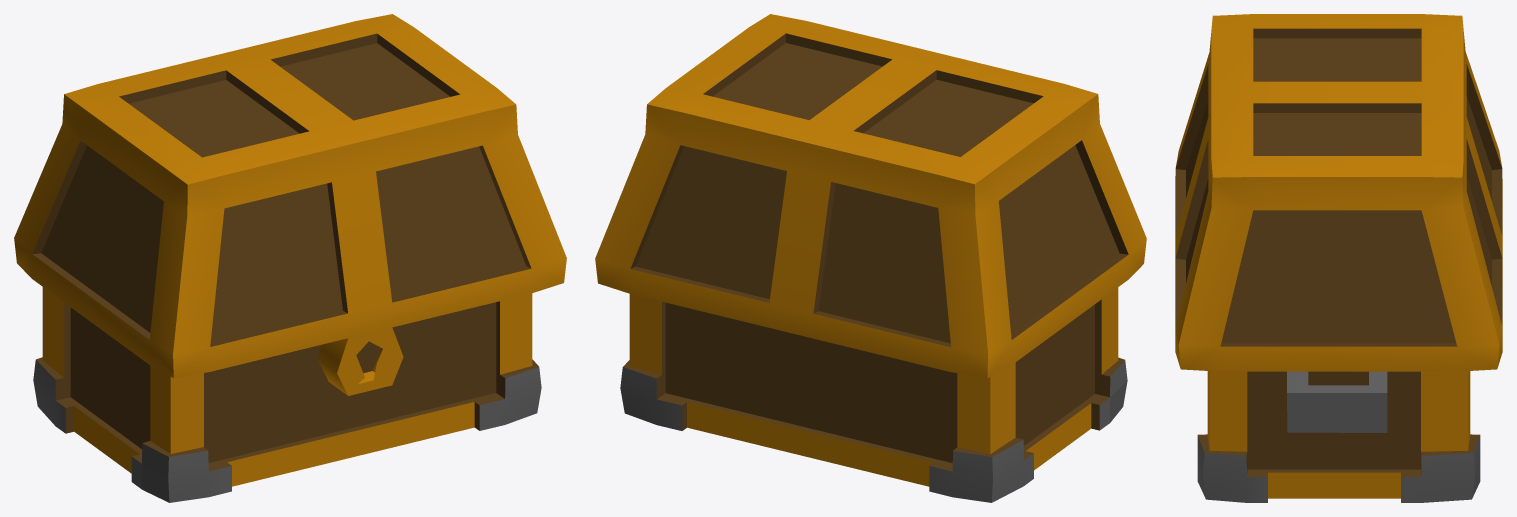
The model's file is Treasure_chest.dae.
3 views of the same model, side by side, from view 1: azimuth 30°, elevation 25°; view 2: azimuth 150°, elevation 25°; view 3: azimuth 270°, elevation 25° (orthographic).
Visible parts, largest first — view 1: polySurface1_ncl1_1; view 2: polySurface1_ncl1_1; view 3: polySurface1_ncl1_1.
Boxes of the visible parts, box(x1,y1,x2,y2) form: polySurface1_ncl1_1: box(14, 14, 566, 502); polySurface1_ncl1_1: box(595, 14, 1146, 502); polySurface1_ncl1_1: box(1175, 14, 1502, 502).
Size of the model in its own units: 2.9 by 2.07 by 1.93.
